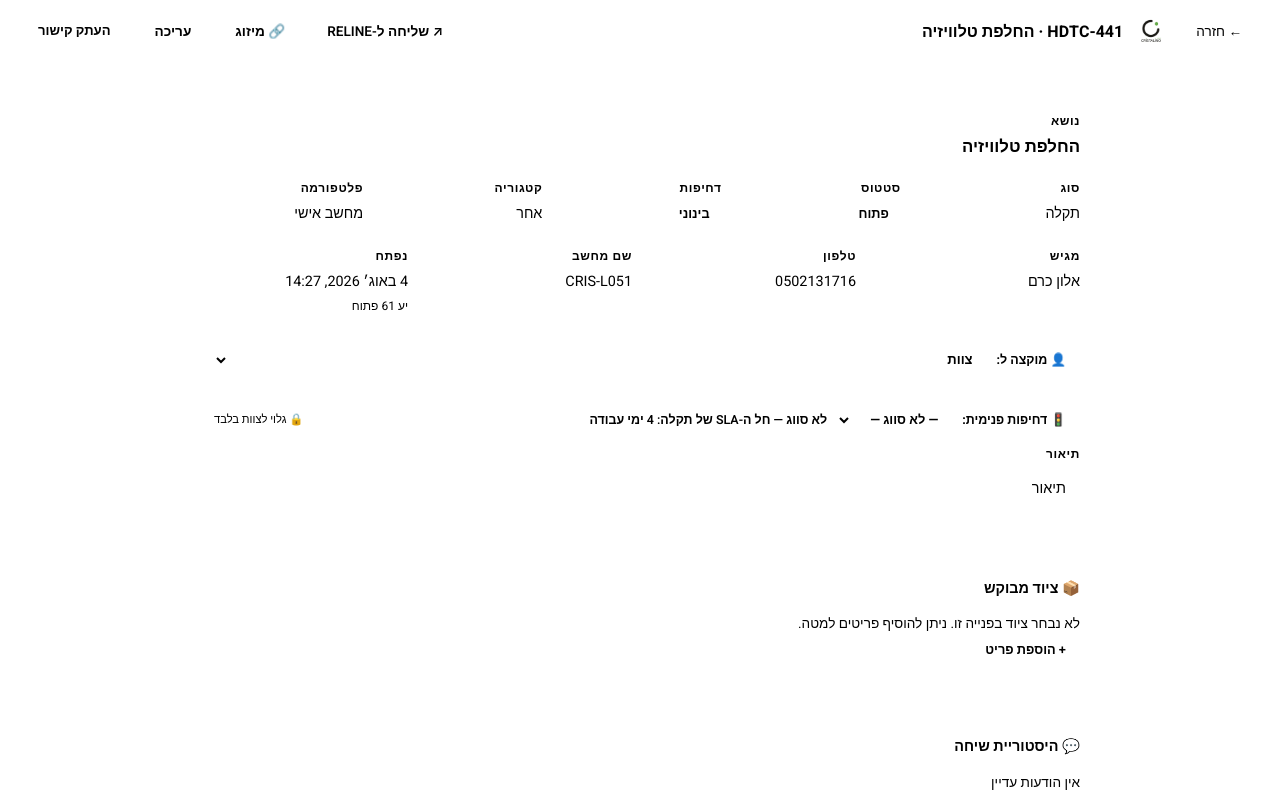
Test: מגיש picker — who gets to see it › leaves מגיש read-only for non-admin staff, who may still edit the rest
The width and height of the screenshot is (1280, 800).
Expected: the heading "HDTC-441 · החלפת טלוויזיה" is shown, [922,20,1123,44]
Click the button "עריכה": (173, 32) [138,16,207,48]
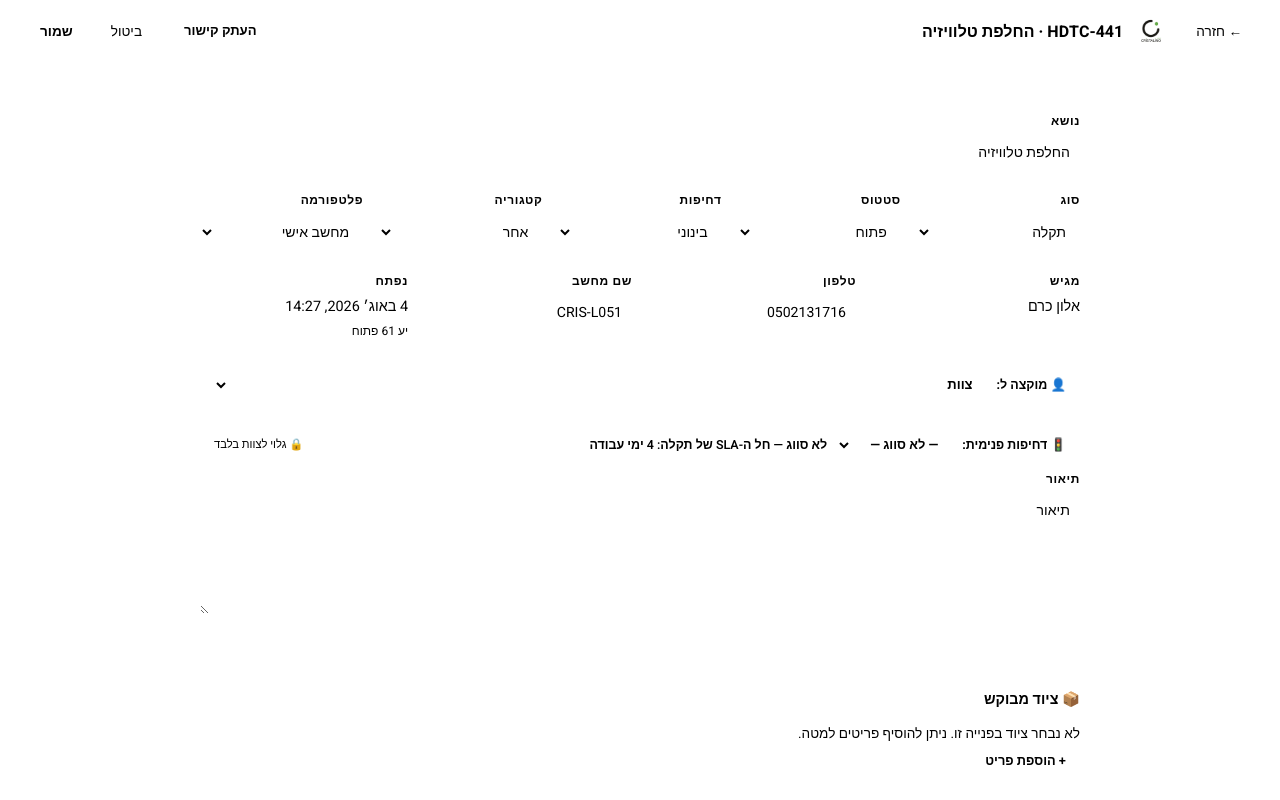
Expected: the field showing "החלפת טלוויזיה" below "נושא" is shown, [200,134,1080,171]
